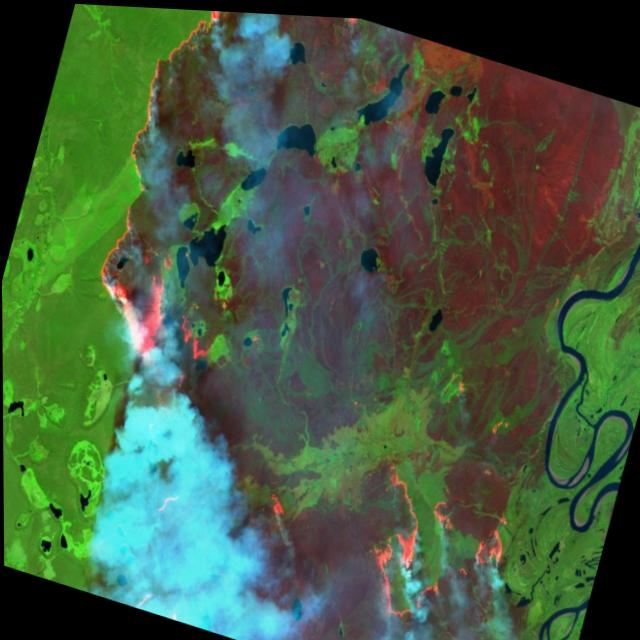fire: (70, 3, 314, 388), (328, 440, 525, 640), (119, 523, 239, 633), (251, 478, 308, 536)
